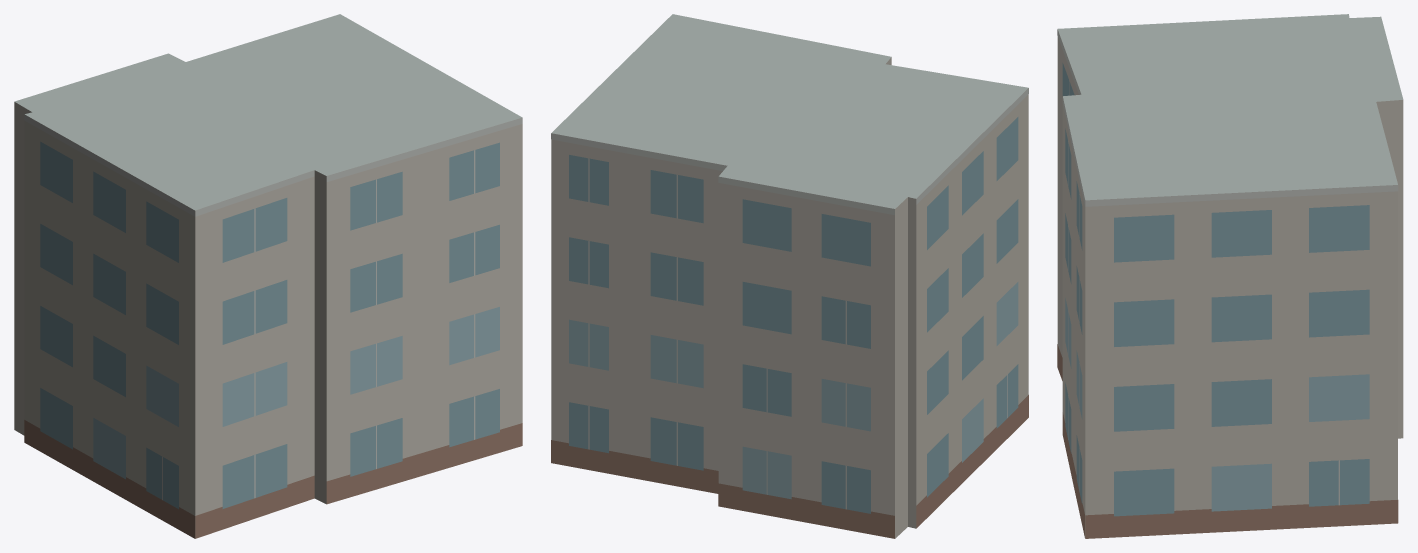
Rendered from survey-upis-32609860.glb.
3 renders of one model, left to right at view 1: azimuth 30°, elevation 25°; view 2: azimuth 150°, elevation 25°; view 3: azimuth 270°, elevation 25°, orthographic. The views are drawn at different scales.
Parts seen in each view (by area): view 1: survey-upis-32609860.tmp; view 2: survey-upis-32609860.tmp; view 3: survey-upis-32609860.tmp.
Boxes of the visible parts, box(x1,y1,x2,y2) form: survey-upis-32609860.tmp: box(14, 14, 522, 538); survey-upis-32609860.tmp: box(551, 14, 1028, 538); survey-upis-32609860.tmp: box(1057, 14, 1403, 538).
Size of the model in its own units: 15.12 by 12.8 by 11.87.
